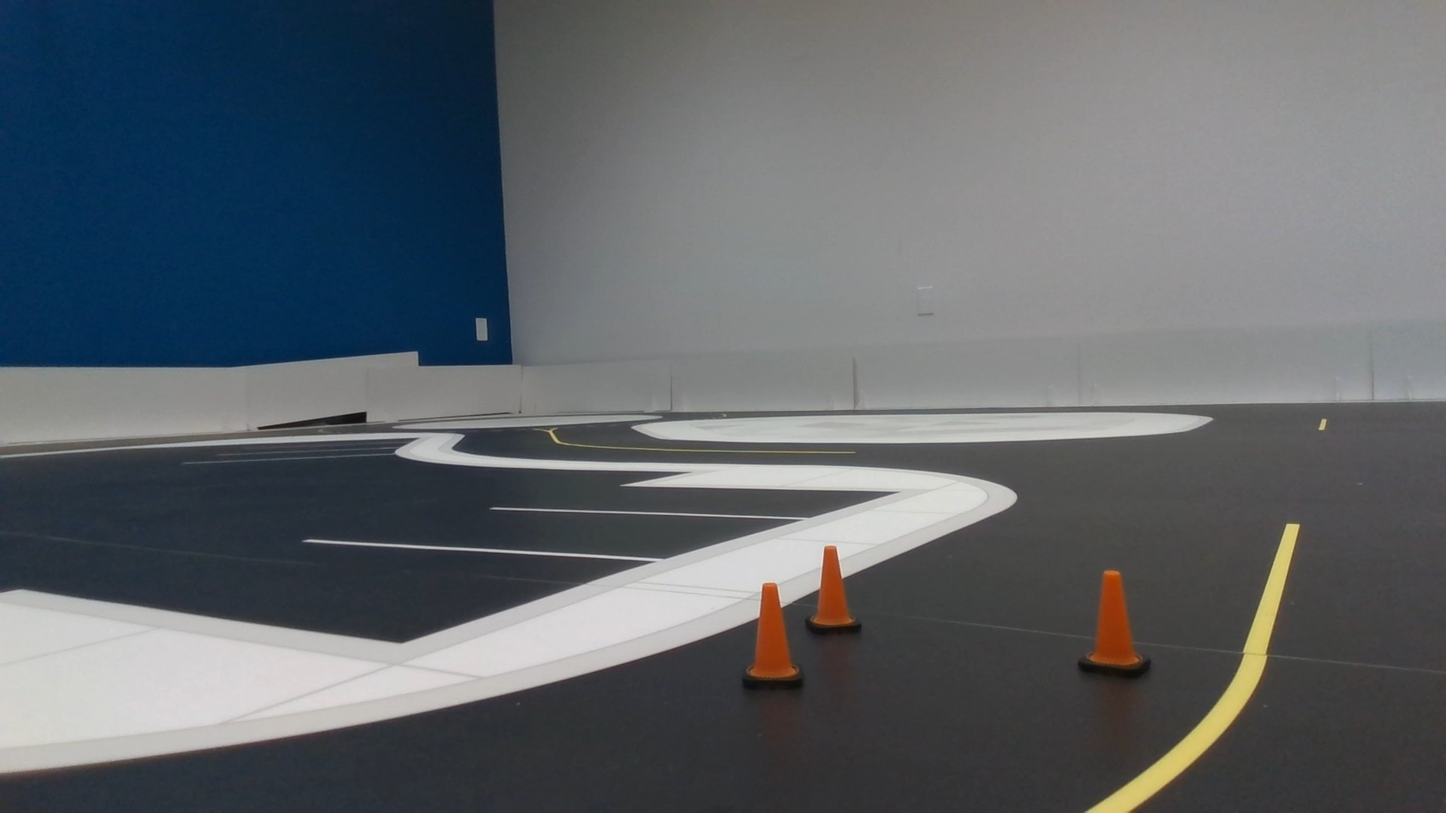Traffic Cone: (1078, 571, 1149, 676), (743, 583, 802, 687), (805, 545, 861, 633)
